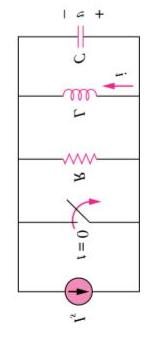inductor: (55, 82, 102, 99)
